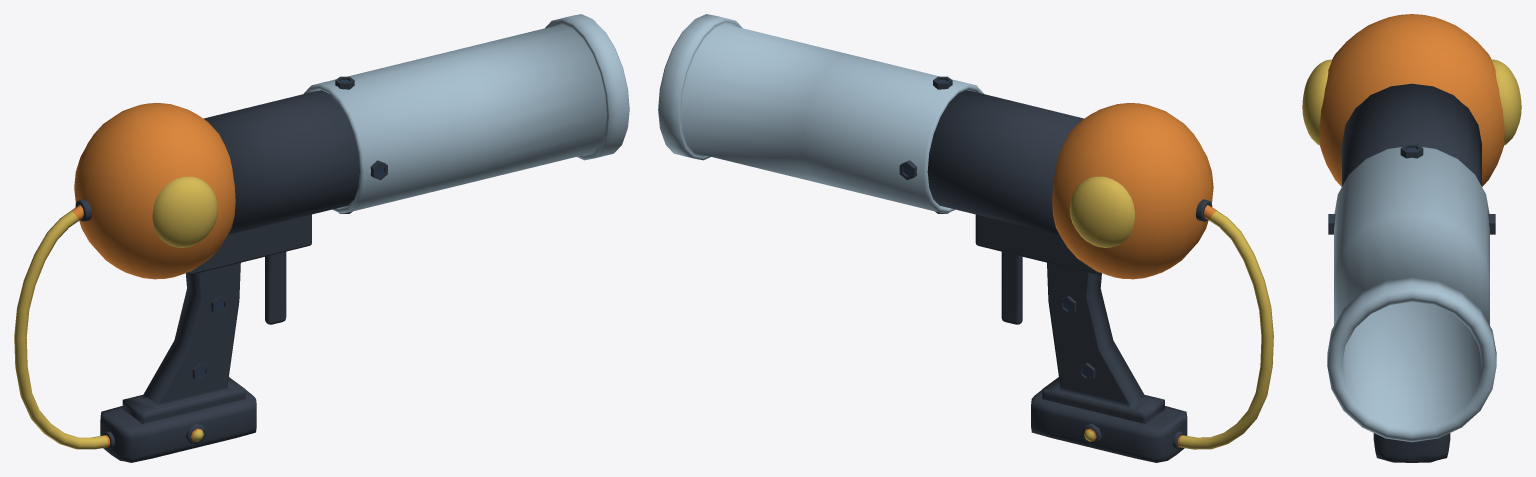
File: gun final.fbx
The picture shows the model from 3 angles, left to right: view 1: azimuth 30°, elevation 25°; view 2: azimuth 150°, elevation 25°; view 3: azimuth 270°, elevation 25°; orthographic projection. The views are drawn at different scales.
Parts seen in each view (by area): view 1: Sphere.003; view 2: Sphere.003; view 3: Sphere.003.
Boxes of the visible parts, x1=… form: Sphere.003: x1=14, y1=14, x2=629, y2=462; Sphere.003: x1=658, y1=14, x2=1273, y2=462; Sphere.003: x1=1302, y1=14, x2=1521, y2=462.
Size of the model in its own units: 62.8 by 34.53 by 17.57.
